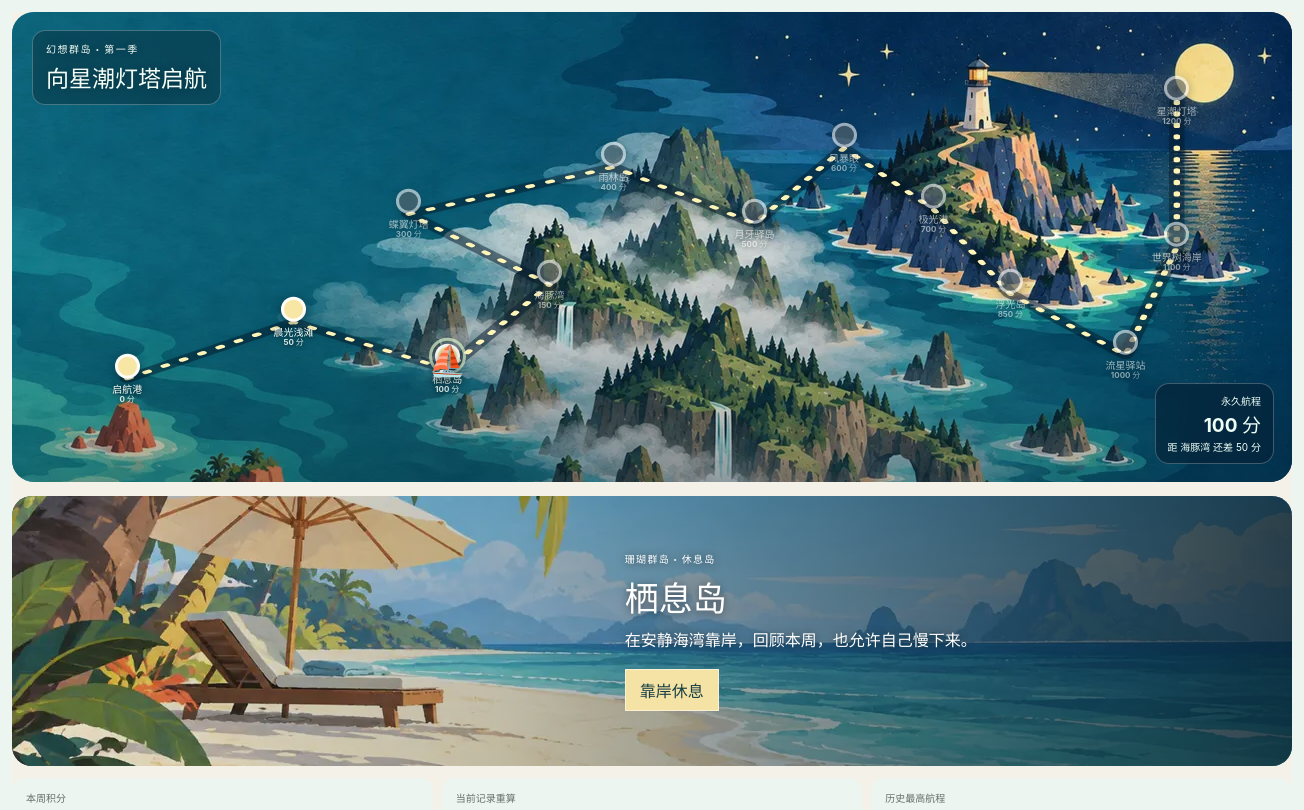
Test case: journey map › 没有个人目标时显示未设置
The image size is (1304, 810).
Click the button "靠岸休息".
click(672, 690)  # box [625,669,719,711]
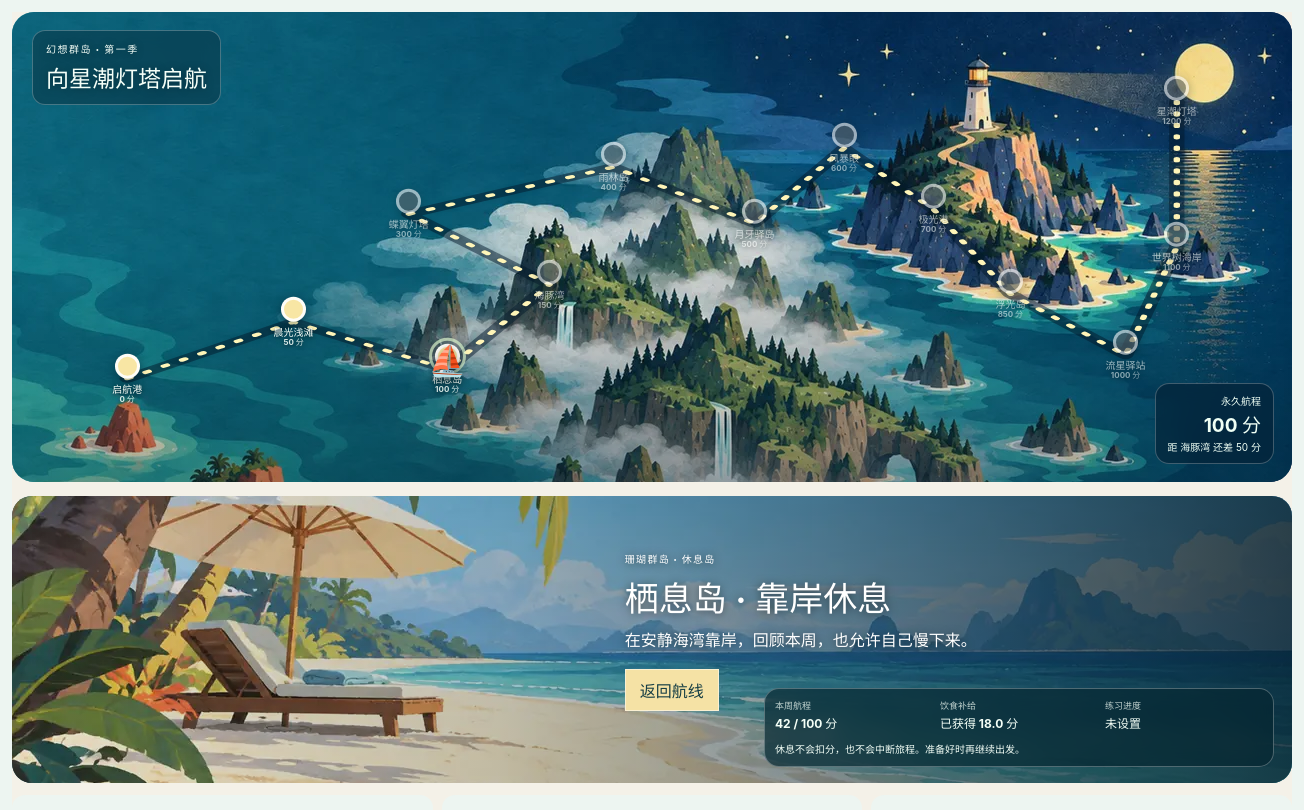
Result: the text "未设置" is shown at [1105,716,1141,731]
